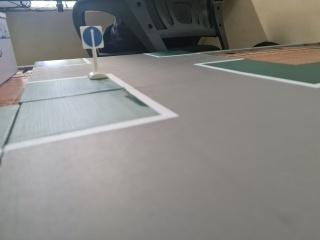straight: (80, 26, 105, 48)
